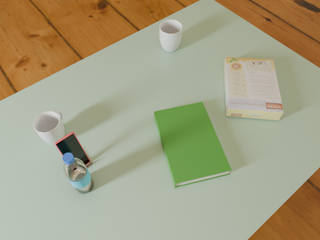book: (154, 102, 231, 188)
bottle: (63, 153, 94, 194)
box: (224, 57, 284, 120)
cup: (33, 111, 65, 144), (159, 20, 182, 52)
phone: (54, 132, 90, 164)
